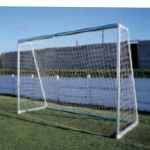goals: (15, 21, 141, 139)
